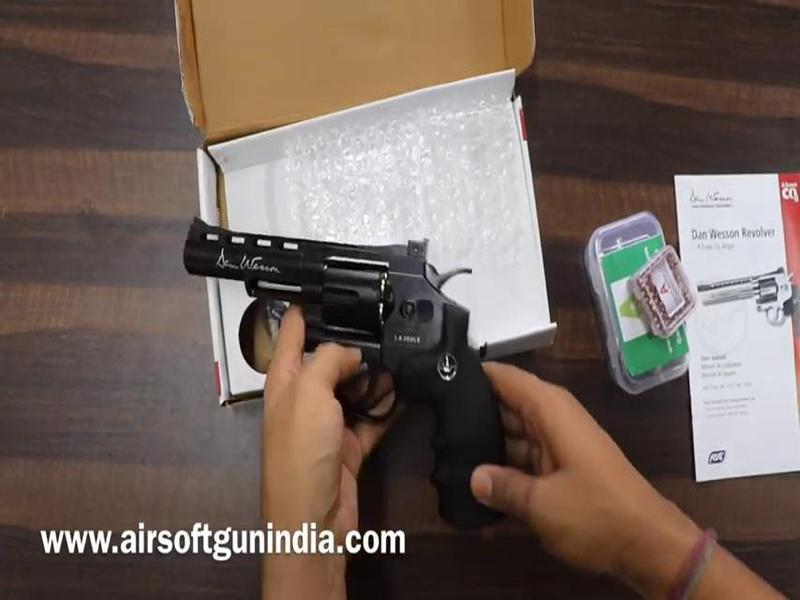Revolver: (179, 184, 544, 527)
